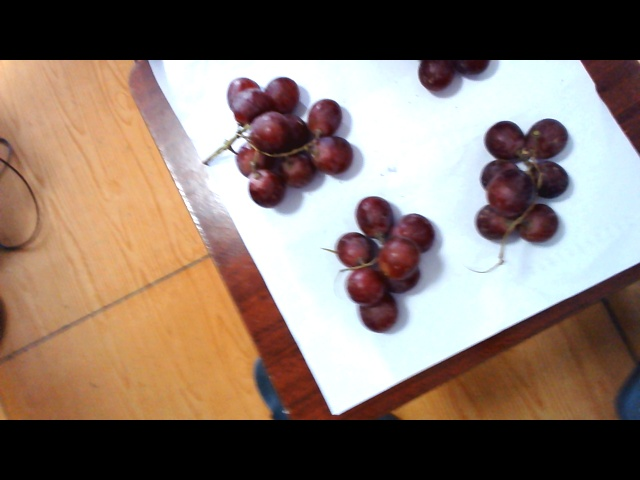grape: (216, 68, 351, 201), (474, 111, 574, 264), (326, 198, 435, 328)
